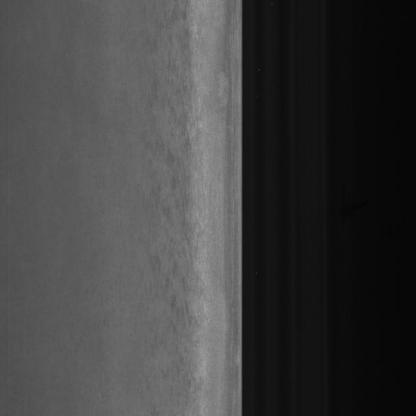silk_spot: (153, 76, 194, 346)
